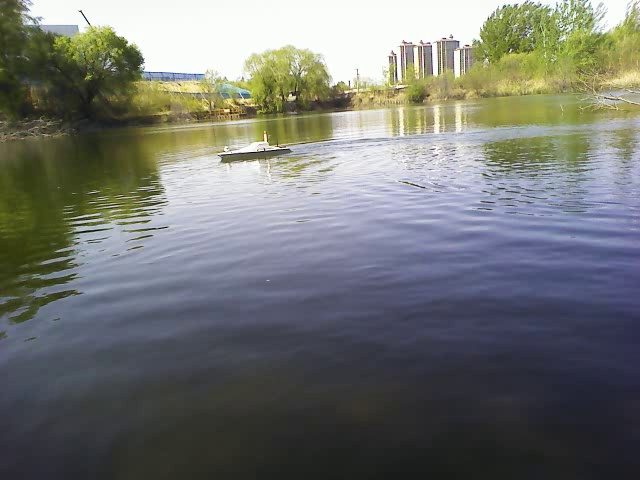boat: (216, 135, 292, 163)
